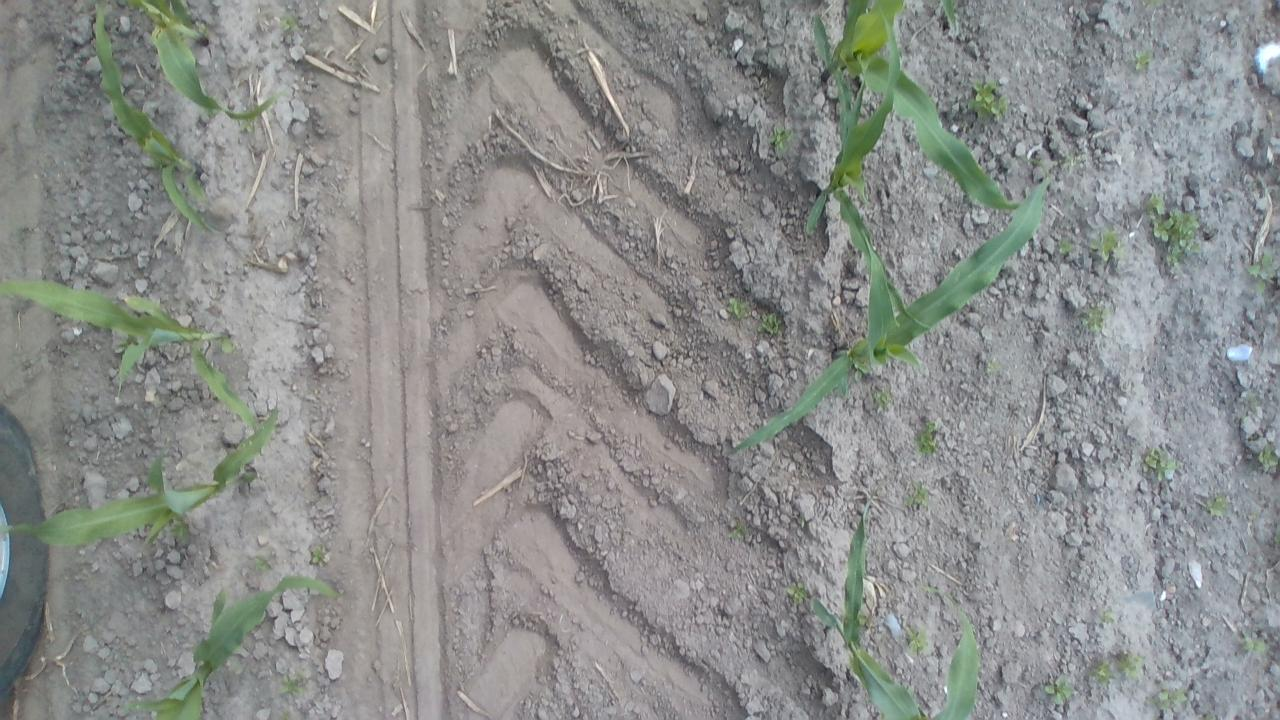Maize: (726, 169, 1056, 461), (792, 0, 1028, 212), (0, 402, 284, 567), (0, 263, 258, 439), (806, 499, 991, 720), (808, 11, 910, 364), (75, 0, 221, 241), (112, 566, 340, 720), (126, 0, 300, 119)
Weeds: (1142, 193, 1202, 273), (960, 74, 1018, 134), (1244, 246, 1280, 294), (1142, 443, 1180, 483), (1087, 227, 1125, 266), (912, 415, 946, 456), (1075, 298, 1108, 340), (276, 668, 310, 705), (766, 122, 801, 157), (1036, 669, 1072, 703), (1202, 490, 1235, 526), (900, 480, 936, 512), (1150, 684, 1188, 712), (1084, 656, 1117, 688), (1240, 631, 1276, 659), (1116, 648, 1148, 678), (168, 520, 200, 550), (782, 578, 812, 609), (1128, 50, 1162, 77), (866, 382, 895, 413), (1256, 438, 1280, 474), (280, 9, 306, 42), (756, 309, 784, 338), (308, 542, 336, 570), (978, 352, 1004, 380), (724, 518, 758, 539), (902, 626, 928, 653), (252, 551, 278, 577), (1053, 234, 1076, 260), (726, 298, 750, 321), (1100, 603, 1122, 627), (235, 114, 258, 136)
